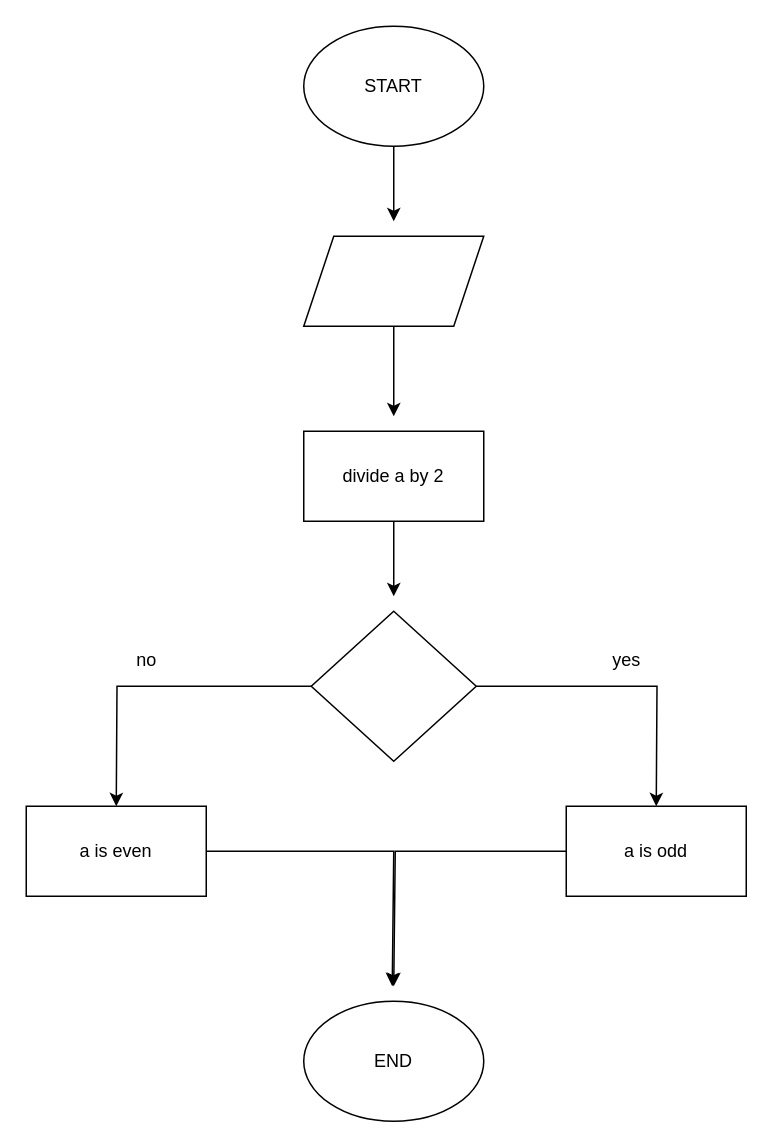
Image size: 773x1148. Some labels were removed from this diagram. Each missing label, with the centre of its shape:
a = some number: point 393,280
a/2 has a remainder?: point 393,685
